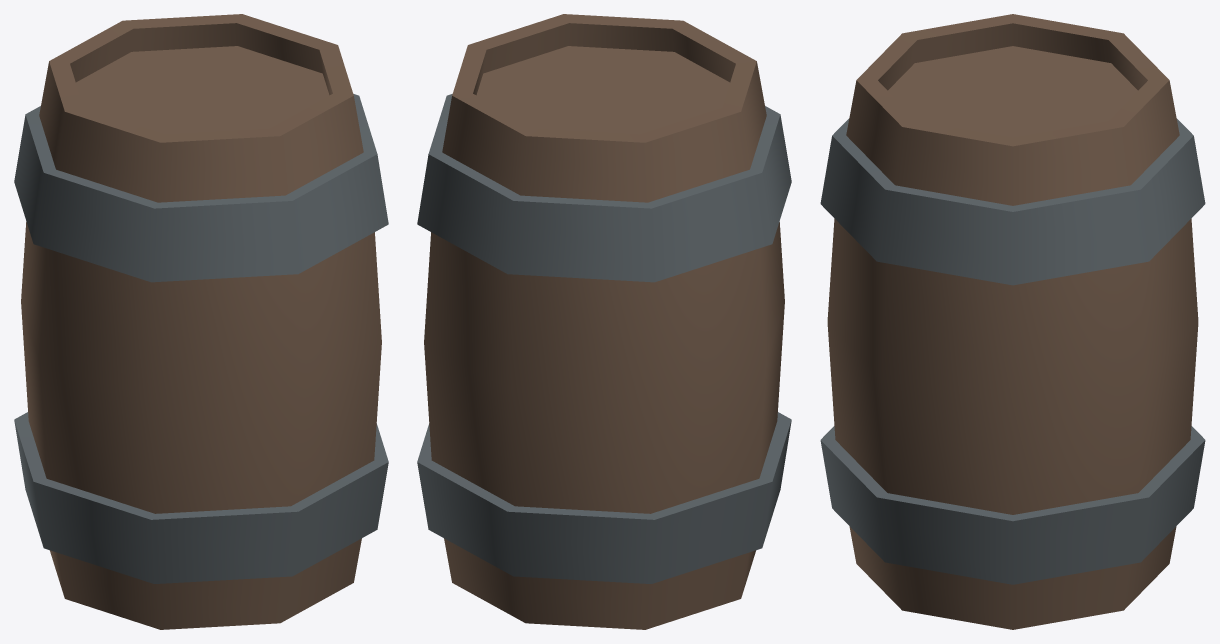
Rendered from Barrel.fbx.
The picture shows the model from 3 angles, left to right: view 1: azimuth 30°, elevation 25°; view 2: azimuth 150°, elevation 25°; view 3: azimuth 270°, elevation 25°; orthographic projection.
Parts seen in each view (by area): view 1: Cylinder.001; view 2: Cylinder.001; view 3: Cylinder.001.
Part boxes in pixels (x1=…): Cylinder.001: x1=14, y1=14, x2=388, y2=629; Cylinder.001: x1=417, y1=14, x2=791, y2=629; Cylinder.001: x1=820, y1=14, x2=1205, y2=629.
Size of the model in its own units: 87.63 by 121 by 87.63.
